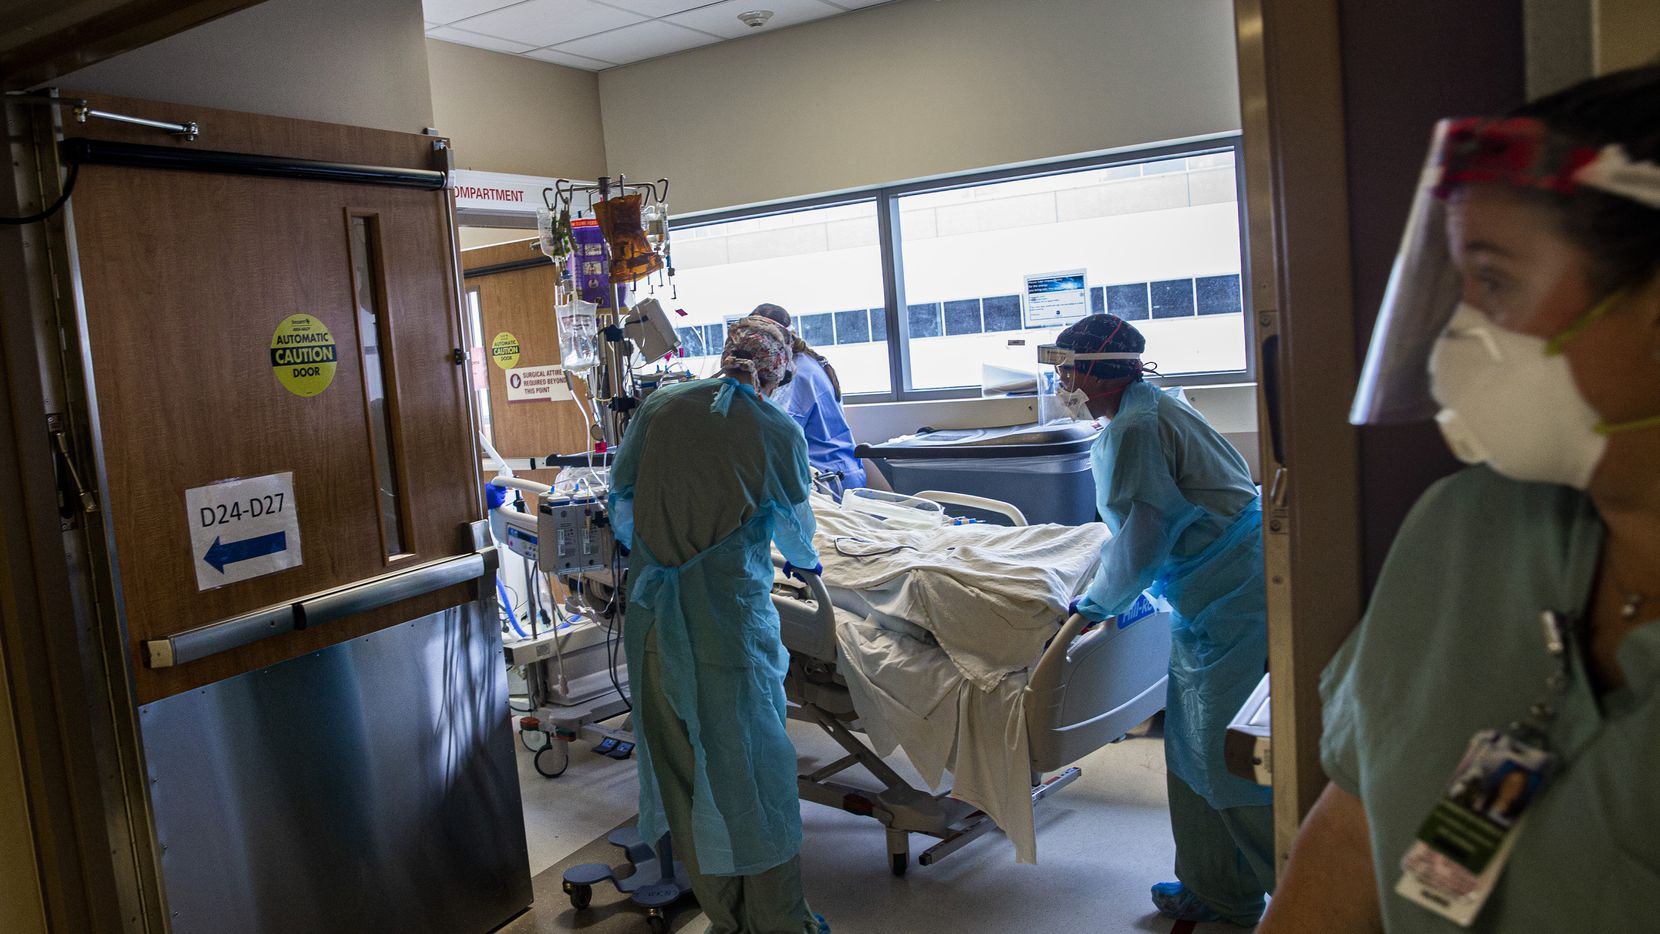bedrail: (486, 475, 837, 668), (897, 488, 1029, 525)
hospital_bed: (490, 456, 1172, 875)
iv_pole: (535, 174, 687, 452)
push_latch: (141, 507, 500, 681)
staff: (1254, 57, 1660, 934), (1039, 313, 1263, 916), (614, 315, 822, 934), (750, 304, 869, 487)
waste_bin: (869, 430, 1097, 525)
